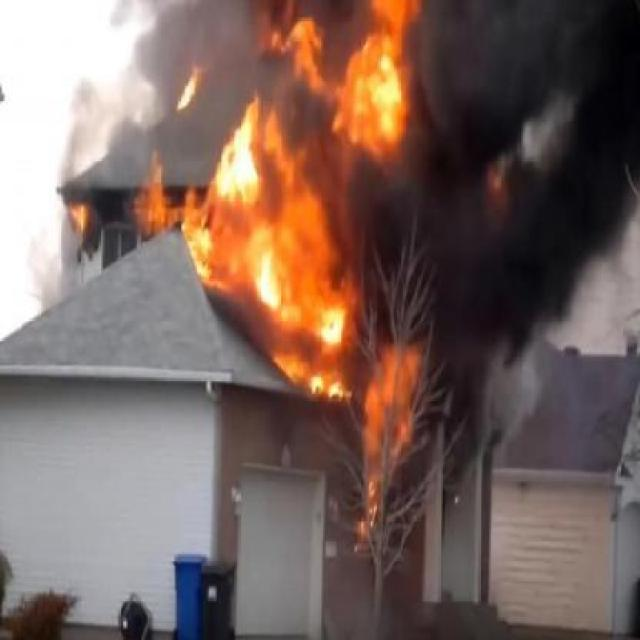Fire: (130, 31, 458, 477)
